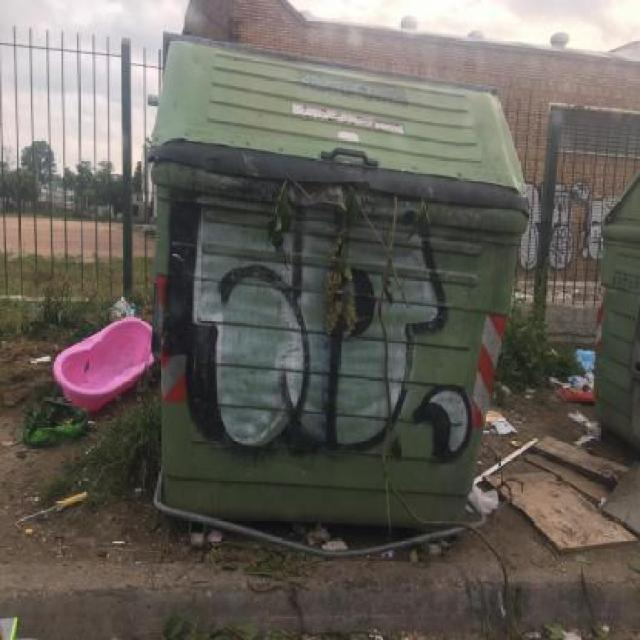garbage: (509, 299, 640, 530), (39, 268, 153, 477)
